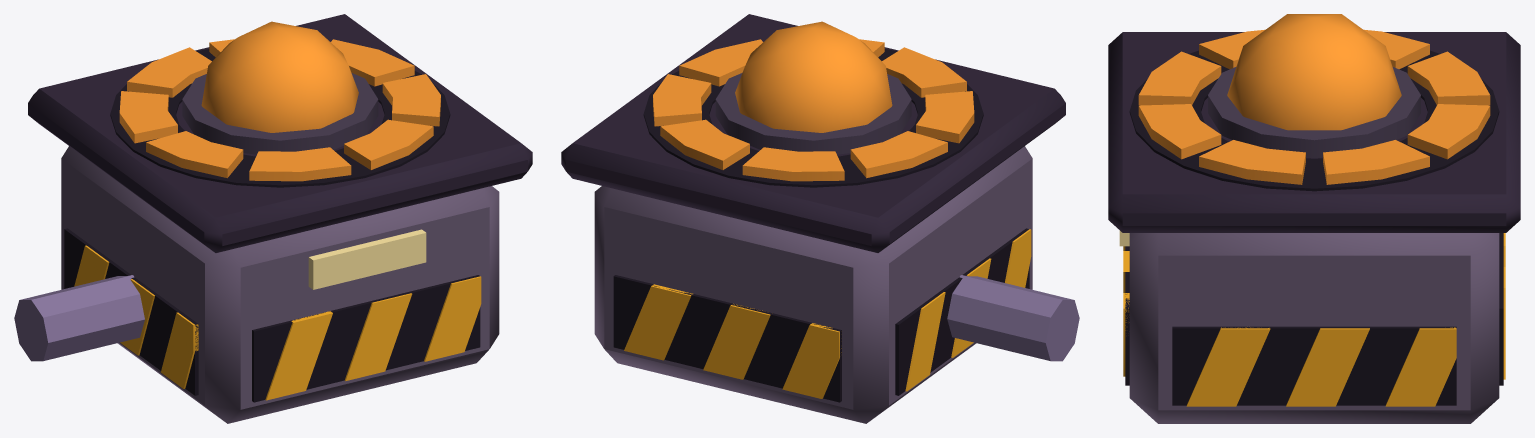
Rendered from trap_relay__lower.glb.
3 renders of one model, left to right at view 1: azimuth 30°, elevation 25°; view 2: azimuth 150°, elevation 25°; view 3: azimuth 270°, elevation 25°, orthographic. The views are drawn at different scales.
Parts seen in each view (by area): view 1: Body, Lamp, Tick_05, Tick_06, Tick_04, Tick_08, Tick_07, Tick_03, Tick_02; view 2: Body, Lamp, Tick_08, Tick_07, Tick_01, Tick_05, Tick_06, Tick_02, Tick_03; view 3: Body, Lamp, Tick_02, Tick_03, Tick_01, Tick_04, Tick_05, Tick_08, Tick_06, Tick_07.
Part boxes in pixels (box(x1,y1,x2,y2)): Body: box(14, 14, 532, 423); Lamp: box(201, 21, 358, 132); Tick_05: box(249, 147, 351, 181); Tick_06: box(146, 131, 243, 178); Tick_04: box(344, 119, 433, 169); Tick_08: box(127, 47, 211, 97); Tick_07: box(119, 91, 177, 143); Tick_03: box(382, 74, 440, 126); Tick_02: box(331, 39, 414, 86); Body: box(561, 14, 1079, 423); Lamp: box(735, 21, 892, 132); Tick_08: box(742, 147, 844, 181); Tick_07: box(850, 131, 947, 178); Tick_01: box(660, 119, 749, 169); Tick_05: box(882, 47, 966, 97); Tick_06: box(916, 91, 974, 143); Tick_02: box(653, 74, 711, 126); Tick_03: box(679, 39, 762, 86); Body: box(1108, 32, 1520, 423); Lamp: box(1227, 14, 1401, 130); Tick_02: box(1323, 140, 1429, 184); Tick_03: box(1199, 140, 1305, 184); Tick_01: box(1407, 104, 1490, 159); Tick_04: box(1138, 104, 1221, 159); Tick_05: box(1138, 51, 1221, 105); Tick_08: box(1407, 51, 1490, 105); Tick_06: box(1199, 29, 1264, 69); Tick_07: box(1364, 29, 1429, 69).
Size of the model in its own units: 0.365 by 0.264 by 0.29.
